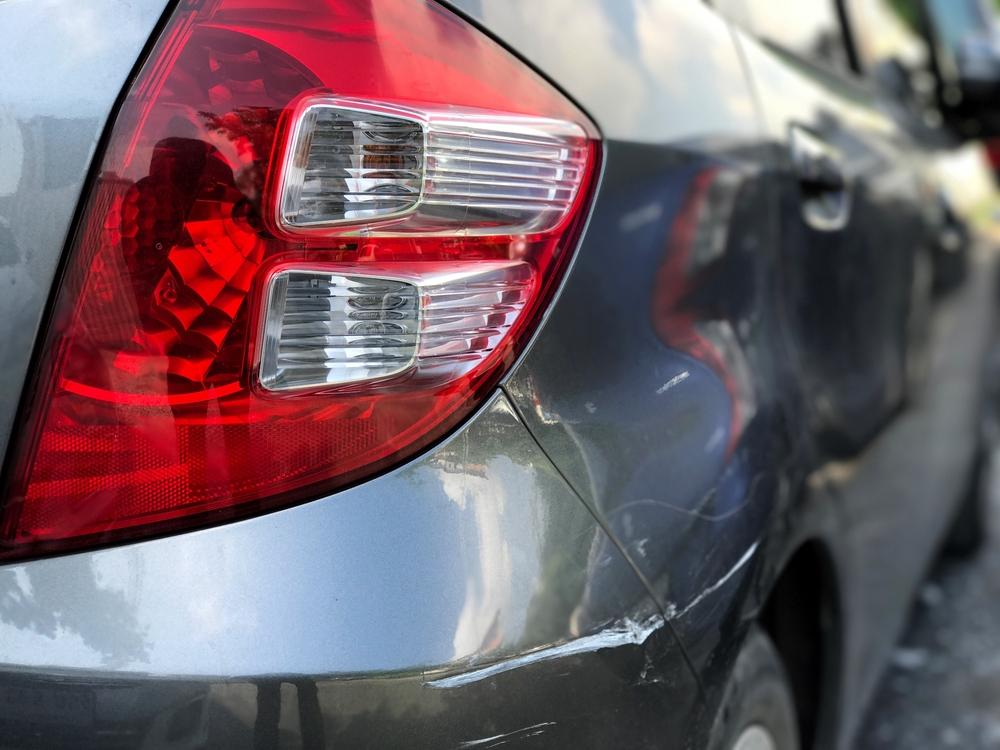scratch: (420, 610, 667, 689), (447, 718, 559, 750)
